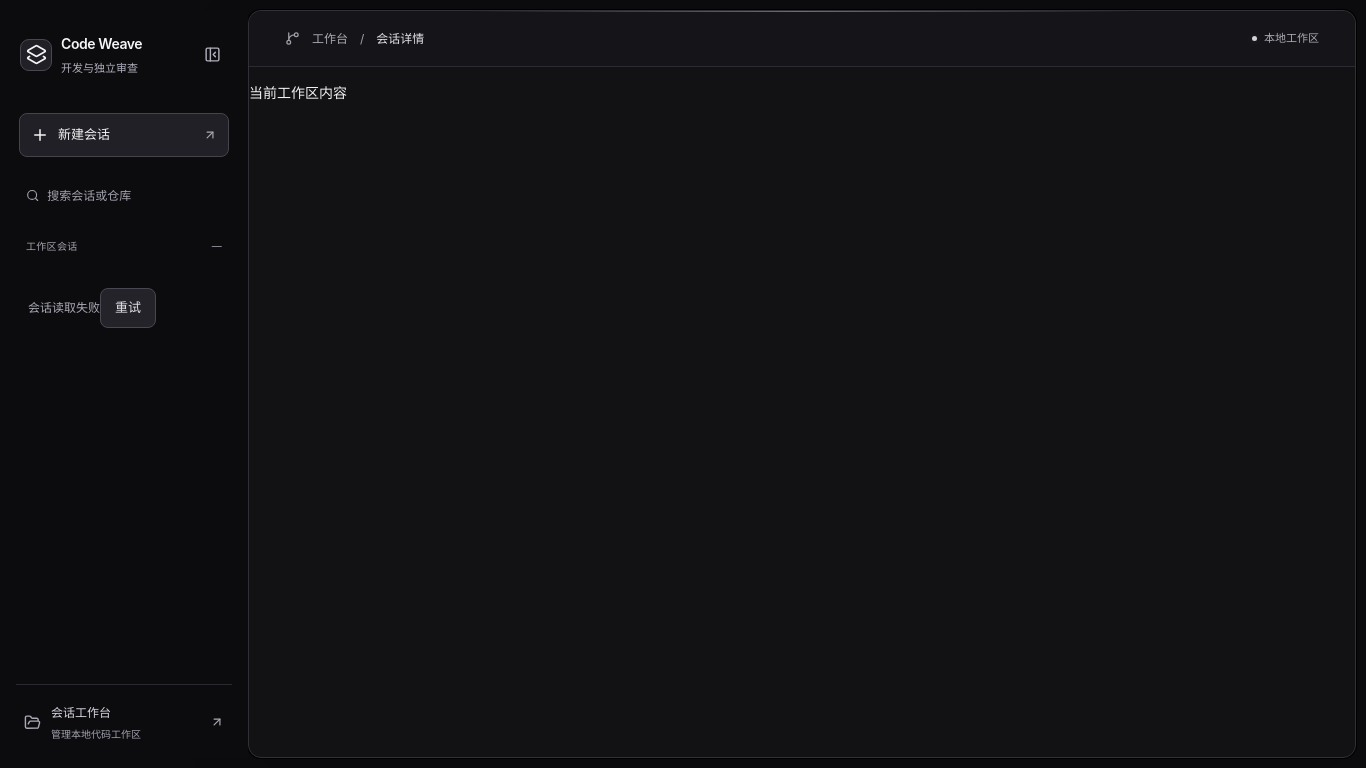
Test: WorkspaceShell › keeps query errors visible and retries only on explicit request
The width and height of the screenshot is (1366, 768).
expect the message shows "会话读取失败": met, box [28,300,100,316]
Click the button "重试".
click(128, 308)  # box [100,288,156,328]
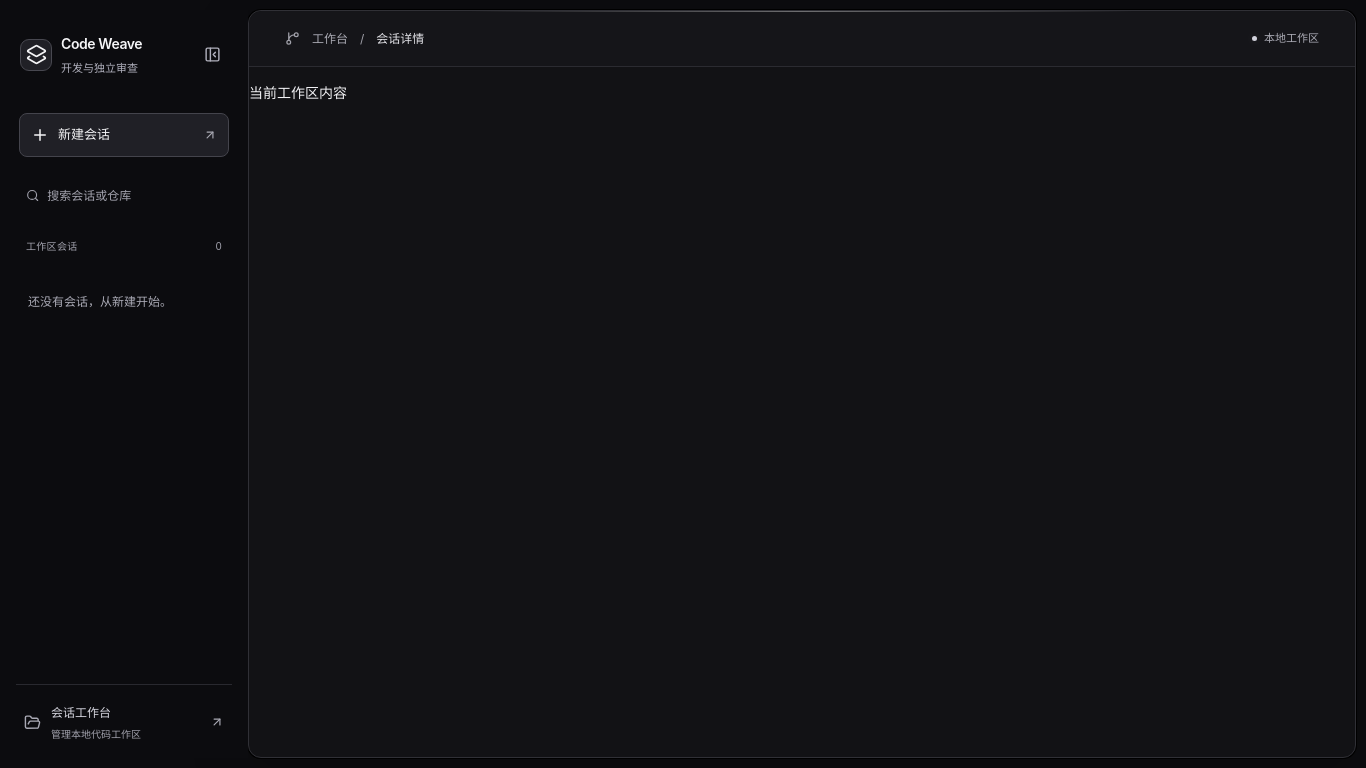
expect the text "还没有会话，从新建开始。" is shown: met, box [28,294,172,309]
